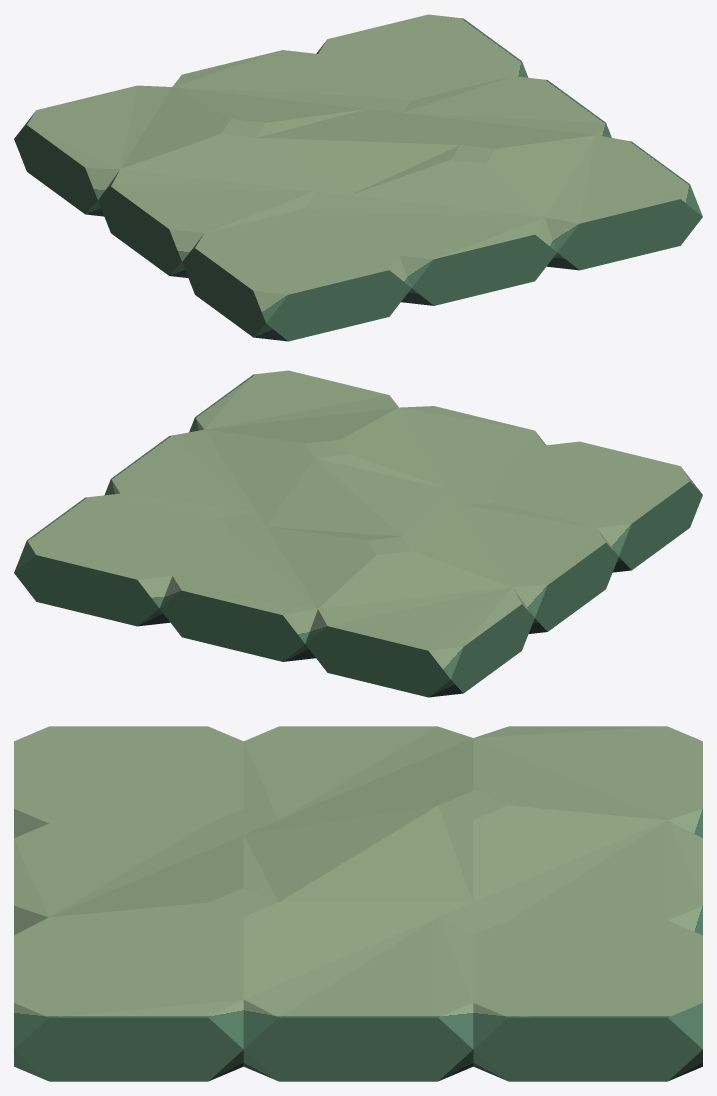
Rendered from Tiles 1.003.fbx.
The picture shows the model from 3 angles, top to bottom: view 1: azimuth 30°, elevation 25°; view 2: azimuth 150°, elevation 25°; view 3: azimuth 270°, elevation 25°; orthographic projection. The views are drawn at different scales.
Visible parts, largest first — view 1: Tiles 1.003; view 2: Tiles 1.003; view 3: Tiles 1.003.
Part boxes in pixels (<box>): Tiles 1.003: <box>14,14,702,341</box>; Tiles 1.003: <box>14,370,702,697</box>; Tiles 1.003: <box>14,726,702,1081</box>.
Size of the model in its own units: 495 by 64.97 by 495.
